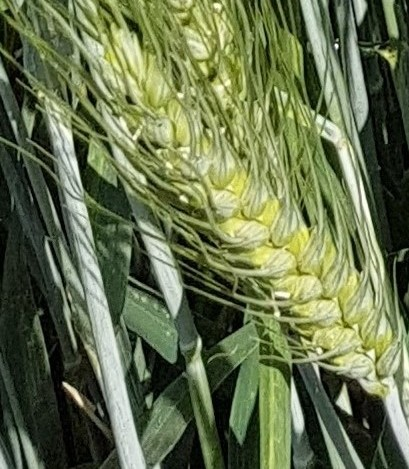Healthy Wheat: (91, 36, 397, 389)
